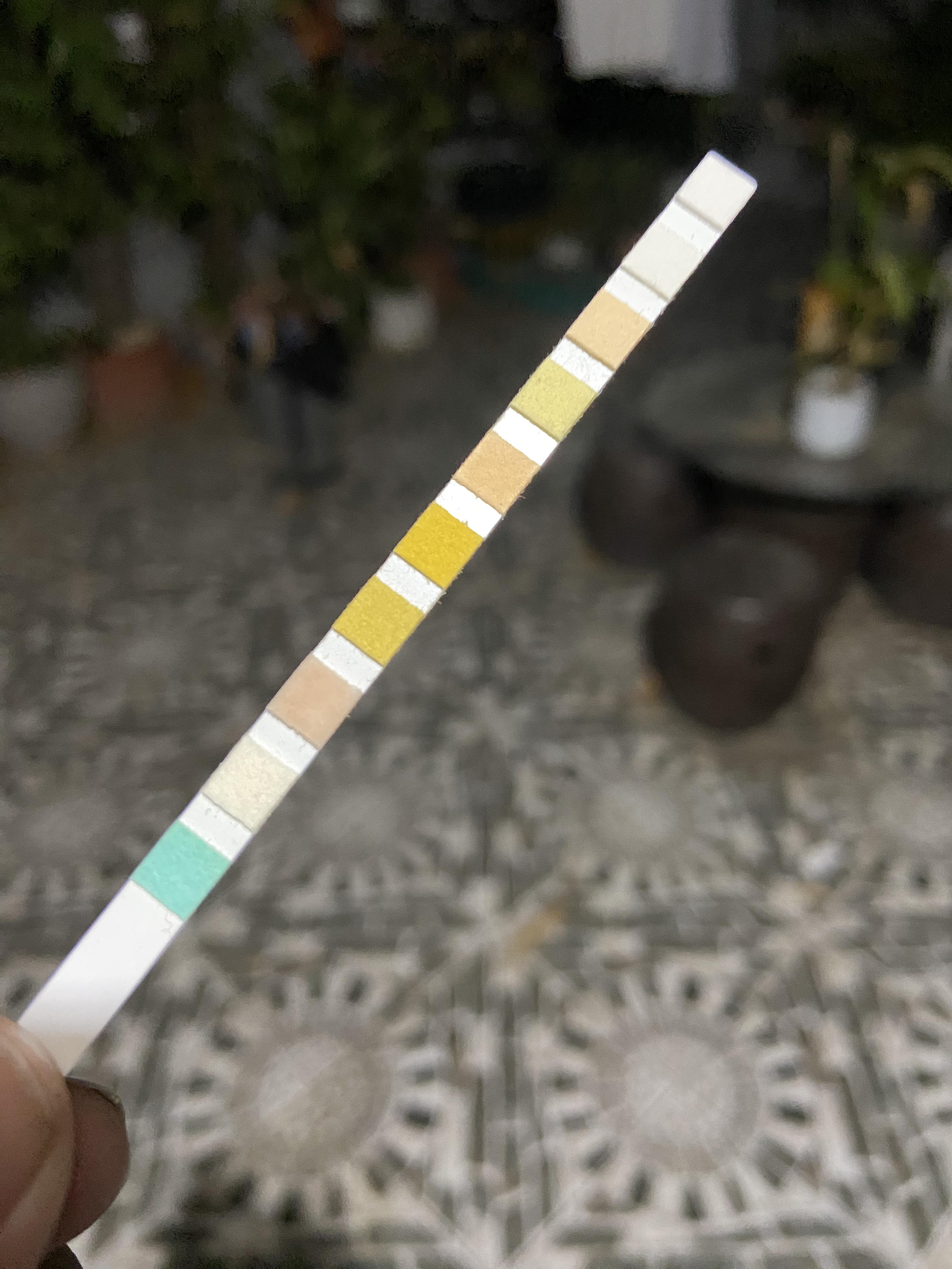Bilirubin: (225, 759, 274, 811)
Blood: (412, 528, 464, 570)
Glucose: (155, 847, 207, 896)
Ketone: (289, 679, 340, 728)
Leukocytes: (693, 171, 740, 211)
Nitrite: (642, 240, 686, 280)
Protein: (533, 378, 577, 423)
SpGravity: (354, 600, 404, 645)
Urobilinogen: (586, 311, 632, 347)
pH: (470, 454, 522, 491)
strip: (22, 149, 761, 1058)
